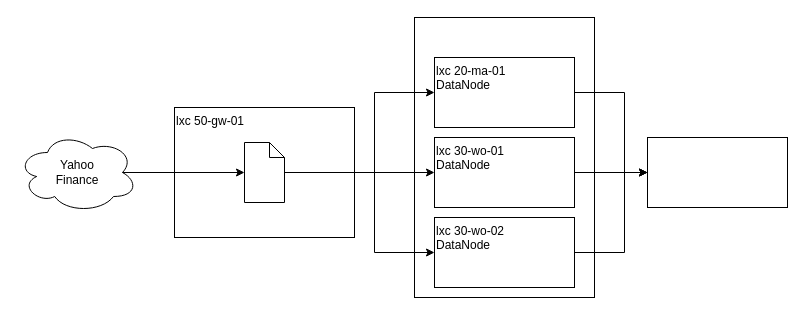
Image size: 805x315. Some labels were removed from this diagram. Here are the shapes that lost their labels. From the top down, the box of each, then its label:
(244, 142, 284, 202): yfinance_price_history.json
(414, 16, 594, 298): HDFS
(646, 136, 788, 208): lxc 50-gw-01 Zeppelin Reporting
